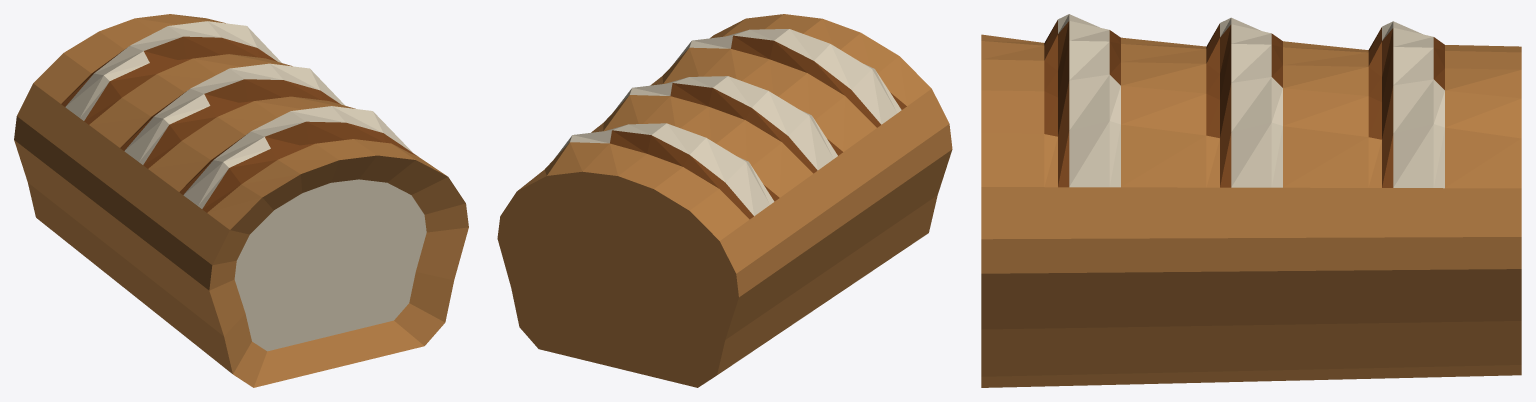
File: bread-loaf-0e0ab5.glb
The picture shows the model from 3 angles, left to right: view 1: azimuth 30°, elevation 25°; view 2: azimuth 150°, elevation 25°; view 3: azimuth 270°, elevation 25°; orthographic projection. The views are drawn at different scales.
Size of the model in its own units: 0.176 by 0.1432 by 0.24.
